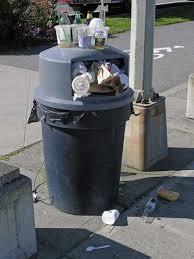trash: (63, 50, 130, 102), (46, 3, 108, 47), (158, 179, 181, 205), (97, 206, 125, 227), (81, 241, 116, 254), (145, 191, 160, 219)
trash_can_overflow: (22, 1, 186, 243)
